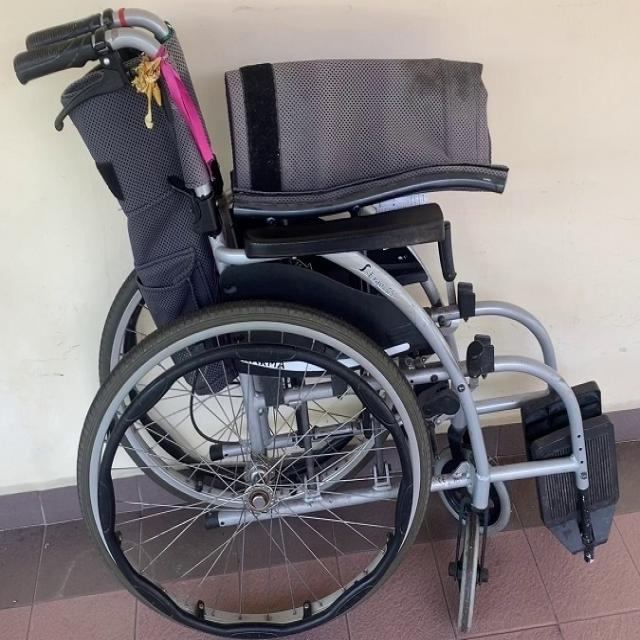wheelchair: (10, 0, 624, 640)
